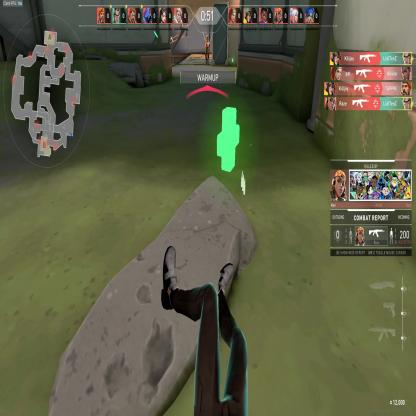enemy: (204, 34, 210, 65)
